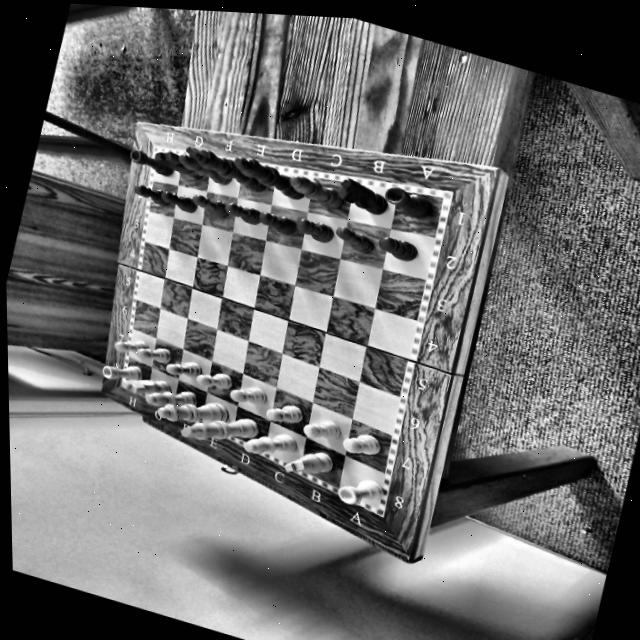black-bishop: (285, 170, 346, 213), (176, 150, 233, 186)
black-king: (182, 141, 272, 191)
black-knight: (333, 175, 389, 216), (147, 144, 208, 178)
black-pawn: (375, 229, 421, 266), (183, 188, 232, 220), (219, 193, 262, 229), (330, 222, 376, 254), (256, 204, 299, 238), (127, 176, 172, 206), (156, 184, 197, 213), (294, 215, 334, 242)
black-queen: (230, 151, 310, 200)
black-rook: (379, 180, 436, 223), (125, 144, 177, 176)
white-bishop: (240, 418, 300, 466), (141, 377, 202, 418)
white-king: (177, 396, 265, 458)
white-knight: (279, 438, 337, 486), (117, 366, 174, 405)
white-pawn: (259, 394, 309, 432), (300, 411, 345, 447), (227, 377, 274, 411), (110, 328, 155, 362), (194, 361, 236, 395), (342, 427, 384, 459), (132, 335, 172, 367), (163, 353, 204, 383)
white-queen: (156, 385, 232, 435)
white-rook: (324, 466, 388, 517), (97, 354, 147, 387)
